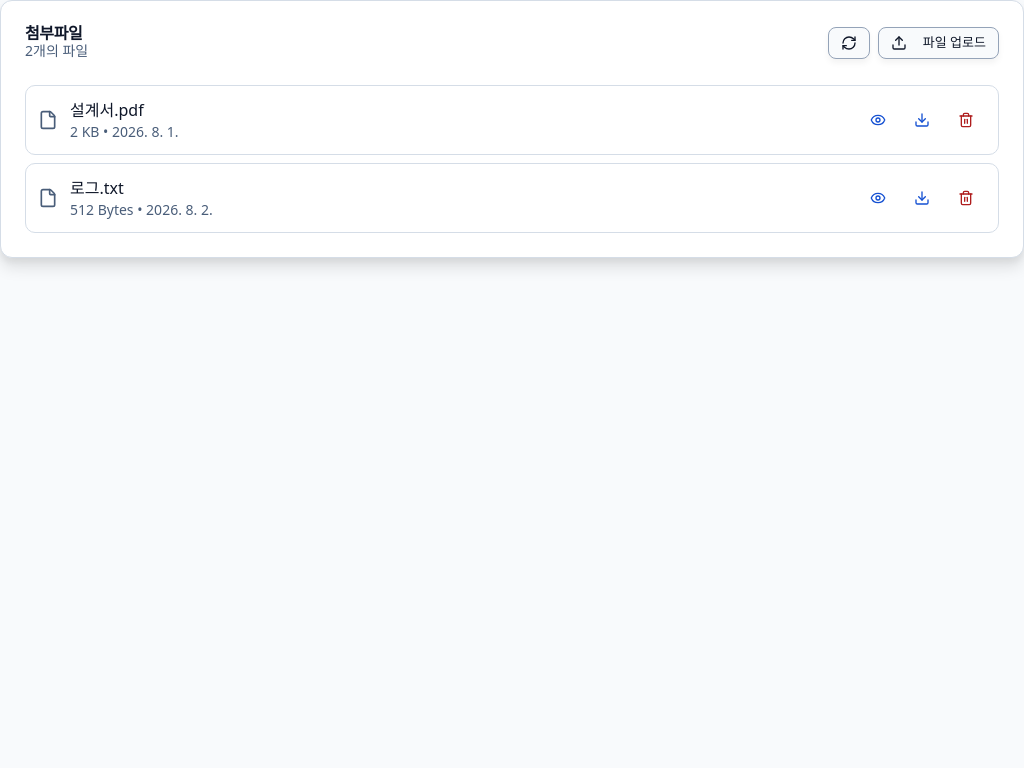
Test: SRAttachments › 확인 다이얼로그를 거쳐야 삭제하고, 성공하면 목록을 다시 읽는다
This screenshot has width=1024, height=768.
Expected: the text "설계서.pdf" is shown, [70,99,144,121]
Click the button named "설계서.pdf 삭제" at (966, 120), box [946,104,986,136]
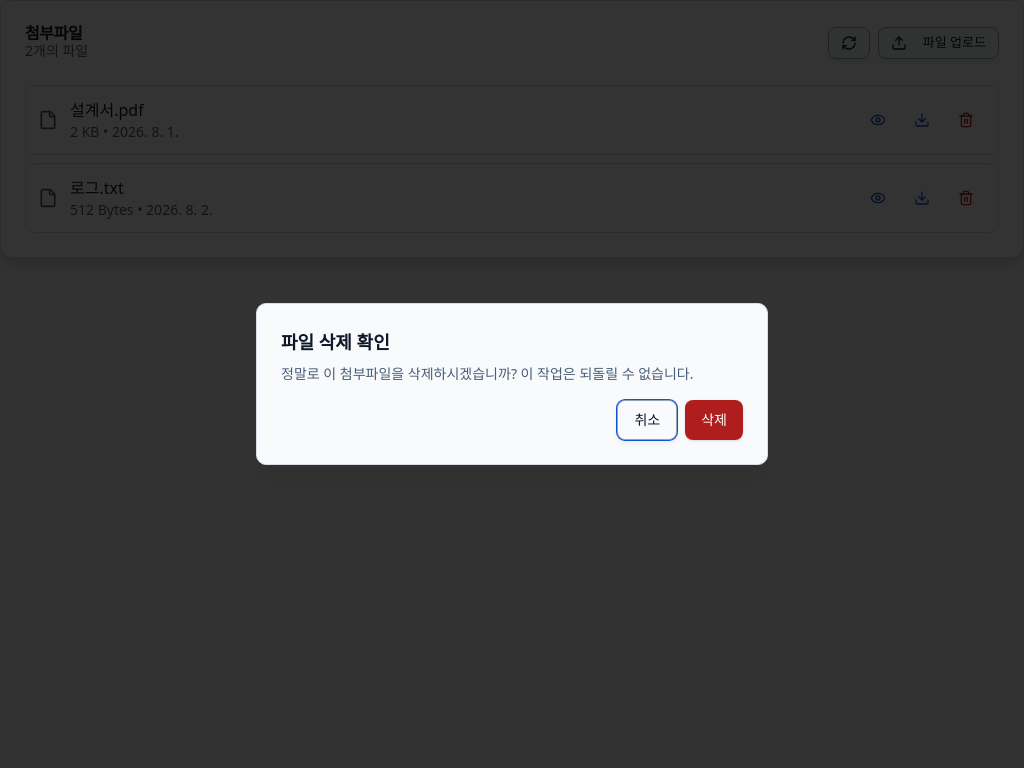
Now the heading "파일 삭제 확인" is shown, box [281,330,390,354]
Click the button "삭제" at (714, 420), box [685,400,743,440]
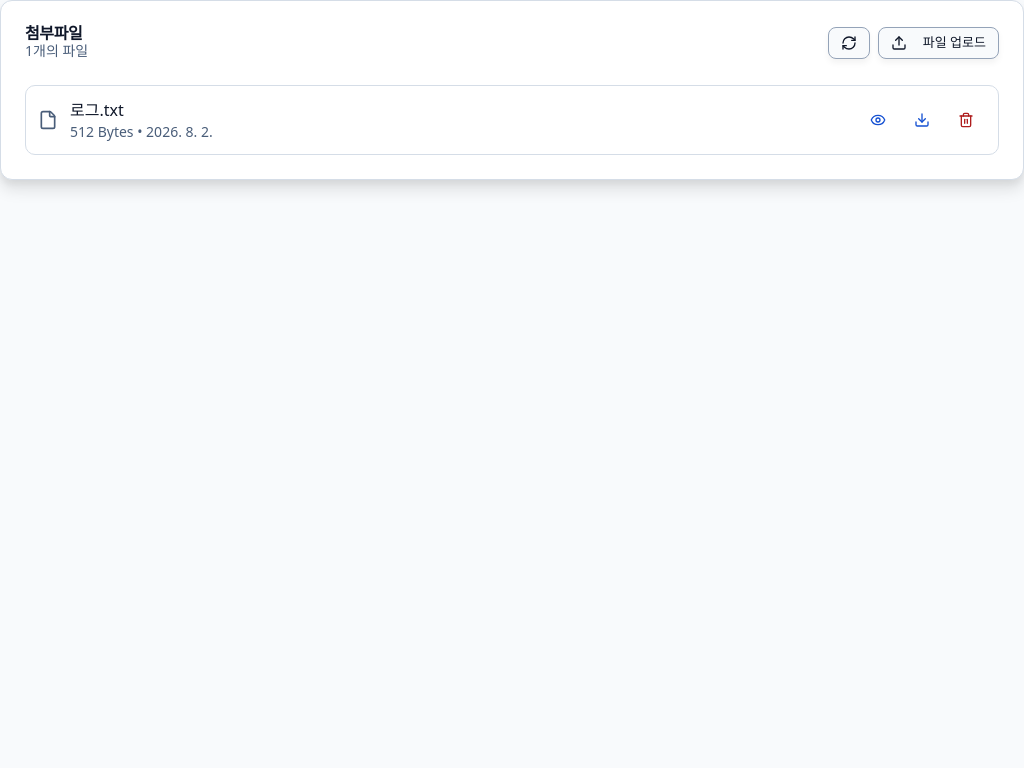
Now the text "설계서.pdf" is gone
Now the text "1개의 파일" is shown, box [25,41,88,61]
